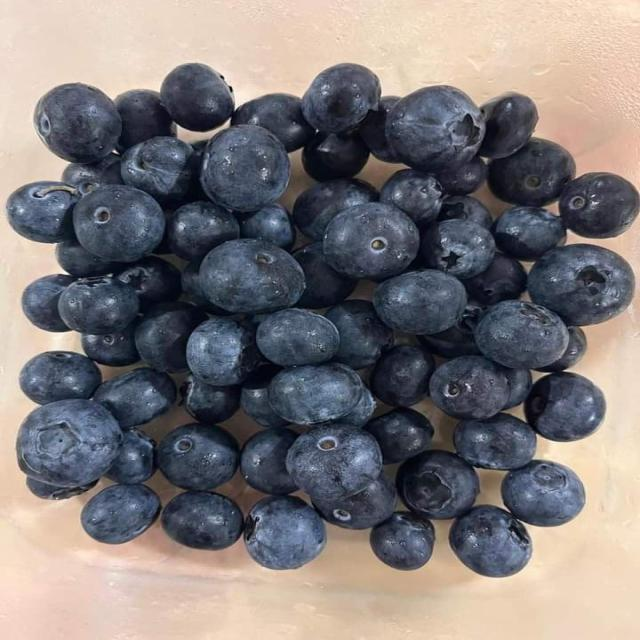blueberry: (16, 400, 122, 487), (528, 244, 634, 325), (386, 86, 485, 172), (200, 239, 304, 313), (201, 125, 289, 211), (323, 203, 419, 279), (287, 424, 382, 500), (73, 186, 165, 261), (33, 84, 121, 162), (475, 301, 568, 368), (244, 496, 326, 569), (373, 270, 466, 334), (449, 506, 532, 577), (488, 139, 575, 206), (397, 450, 479, 519), (269, 364, 363, 424), (525, 372, 606, 441), (502, 460, 585, 526), (302, 63, 380, 133), (158, 424, 239, 491), (293, 179, 378, 240), (429, 356, 509, 420), (560, 173, 639, 237), (136, 302, 207, 373), (160, 63, 234, 131), (186, 318, 260, 385), (94, 368, 176, 428), (232, 93, 314, 152), (256, 309, 340, 366), (161, 492, 243, 550), (121, 136, 194, 201), (313, 473, 397, 529), (454, 413, 536, 470), (81, 484, 160, 543), (326, 300, 393, 369), (58, 277, 139, 334), (7, 181, 79, 242), (420, 220, 495, 278), (20, 351, 102, 404), (293, 242, 356, 308), (370, 345, 435, 406), (493, 207, 566, 261), (418, 300, 485, 357), (365, 408, 433, 464), (480, 93, 538, 158), (240, 428, 297, 494), (115, 89, 175, 151), (370, 512, 434, 570), (380, 169, 443, 227), (115, 256, 182, 310), (464, 252, 527, 305), (303, 131, 369, 181), (240, 365, 288, 427), (22, 275, 73, 332), (180, 375, 240, 423), (106, 429, 156, 484), (56, 239, 125, 277), (360, 96, 399, 162), (81, 323, 140, 366), (240, 204, 295, 250), (182, 262, 228, 316), (62, 153, 121, 195), (537, 327, 586, 372), (437, 157, 487, 196), (438, 196, 492, 228), (334, 386, 376, 427), (26, 476, 97, 500), (502, 367, 532, 409)
